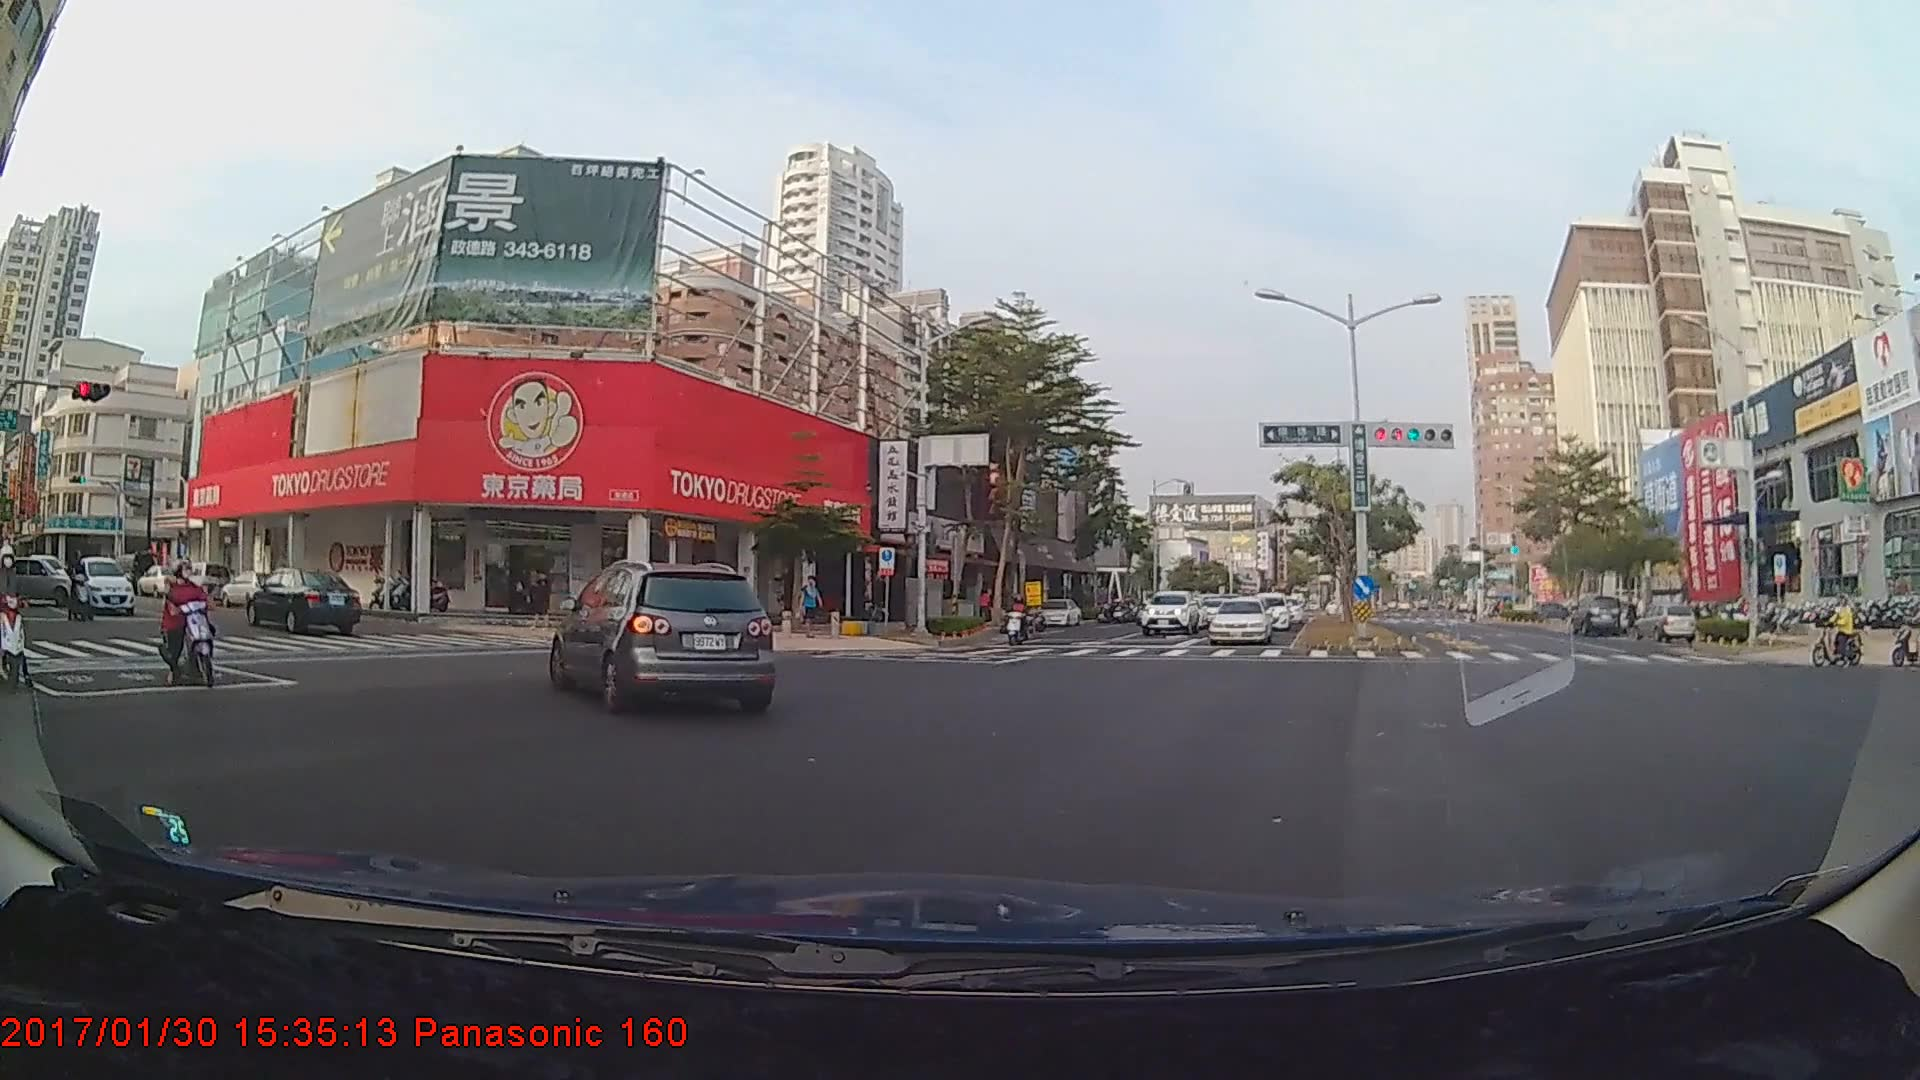pedestrian: (800, 572, 822, 643)
rider: (159, 561, 225, 686), (62, 546, 100, 626), (1004, 586, 1037, 643)
vehicle: (551, 559, 776, 714), (248, 568, 359, 635), (72, 555, 135, 613), (1206, 594, 1269, 641), (1140, 587, 1198, 635), (1565, 592, 1621, 634), (1244, 590, 1291, 628), (1004, 606, 1031, 627)
